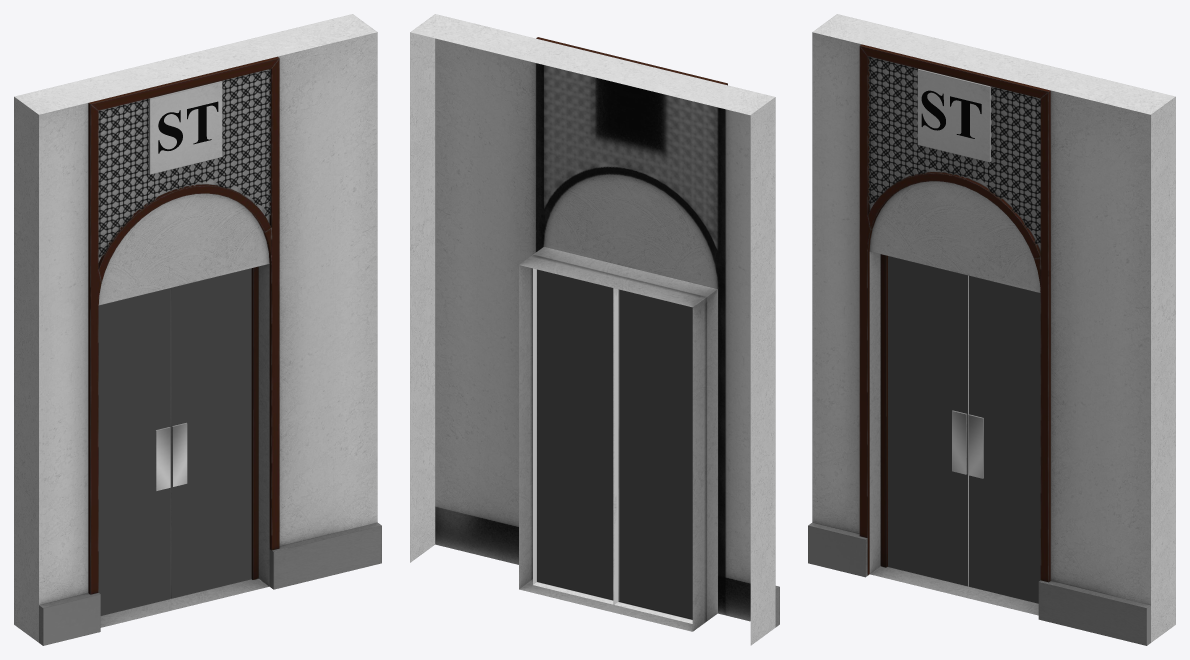
Rendered from door_4.glb.
3 views of the same model, side by side, from view 1: azimuth 30°, elevation 25°; view 2: azimuth 150°, elevation 25°; view 3: azimuth 330°, elevation 25° (orthographic).
Parts seen in each view (by area): view 1: door_4, door_4_img; view 2: door_4; view 3: door_4, door_4_img.
Boxes of the visible parts, x1,y1,x2,y2 form: door_4: [14, 14, 381, 645]; door_4_img: [158, 101, 218, 153]; door_4: [410, 14, 779, 645]; door_4: [808, 14, 1175, 645]; door_4_img: [921, 90, 981, 138].
Size of the model in its own units: 2.35 by 3.5 by 0.3602.
3 materials, 3 textured.
